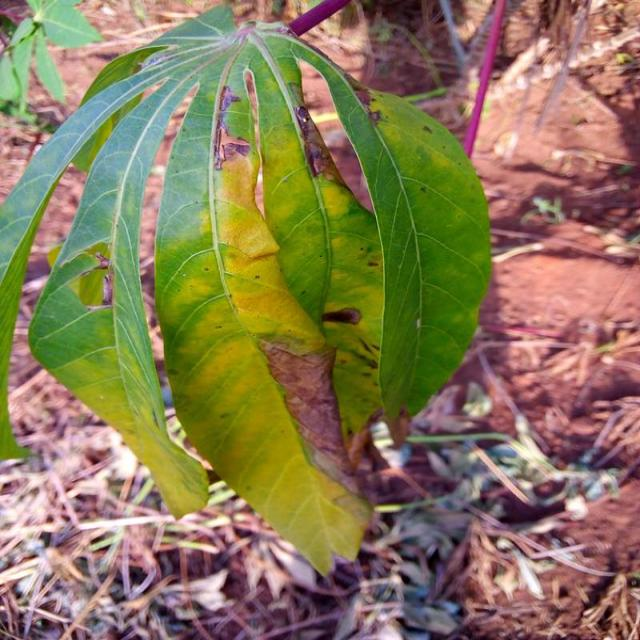cassava leaf: (2, 3, 492, 577)
